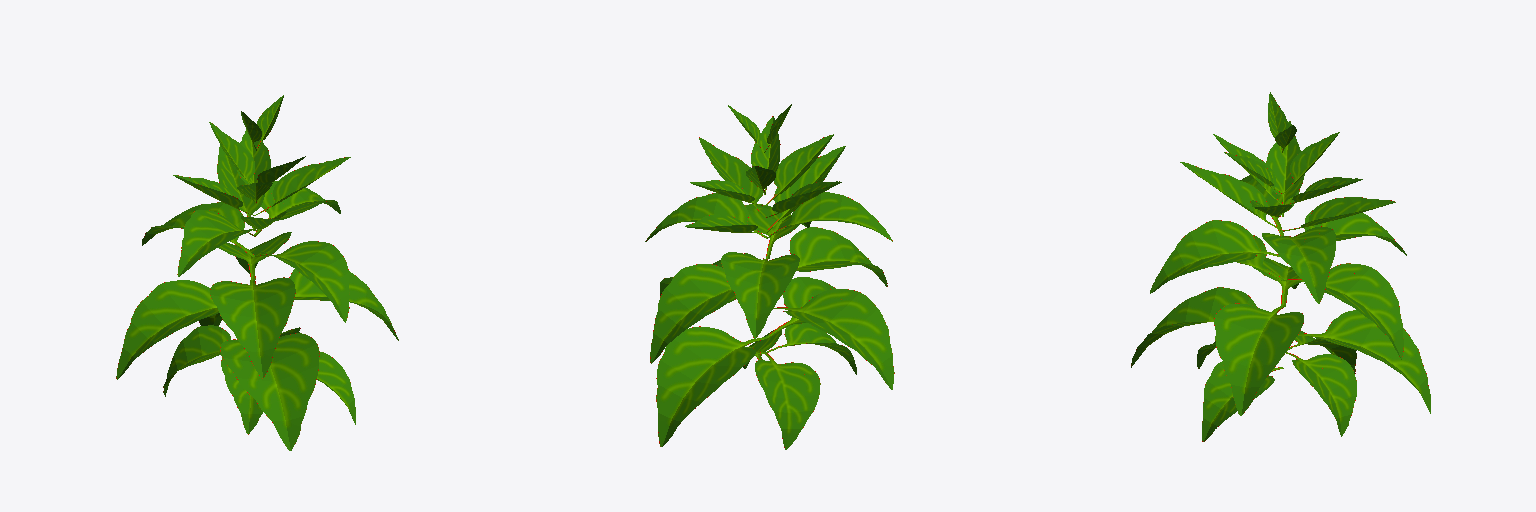
3 renders of one model, left to right at view 1: azimuth 30°, elevation 25°; view 2: azimuth 150°, elevation 25°; view 3: azimuth 270°, elevation 25°, orthographic.
Parts seen in each view (by area): view 1: polySurface17; view 2: polySurface17; view 3: polySurface17.
Boxes of the visible parts, x1,y1,x2,y2 form: polySurface17: [116, 95, 398, 450]; polySurface17: [645, 104, 894, 449]; polySurface17: [1131, 92, 1430, 441].
Bounding box in the file's own units: 0.5918 × 0.5982 × 0.6239.
1 materials, 1 textured.